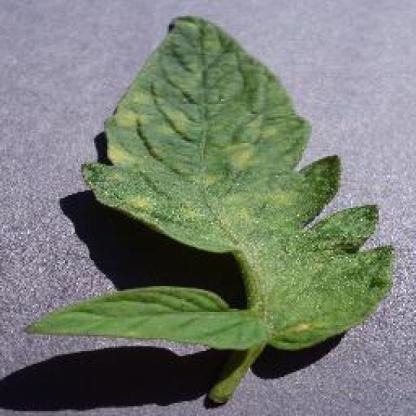Tomato_Leaf_Mold: (87, 15, 371, 254)
